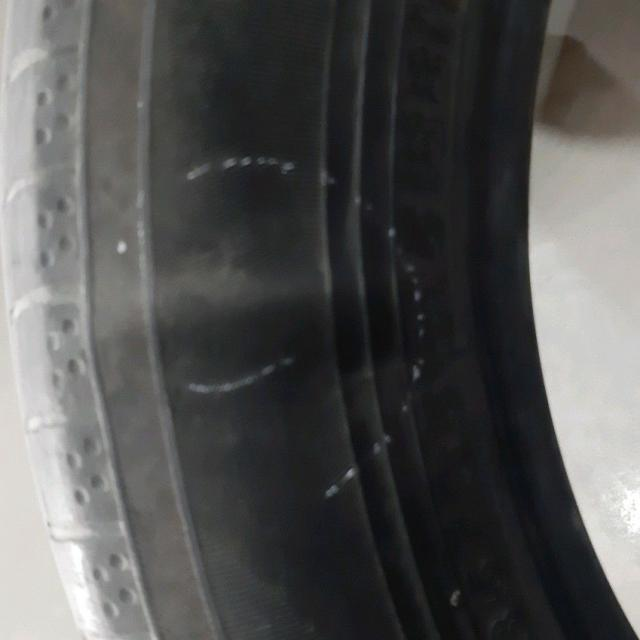Bulge: (58, 235, 408, 380)
